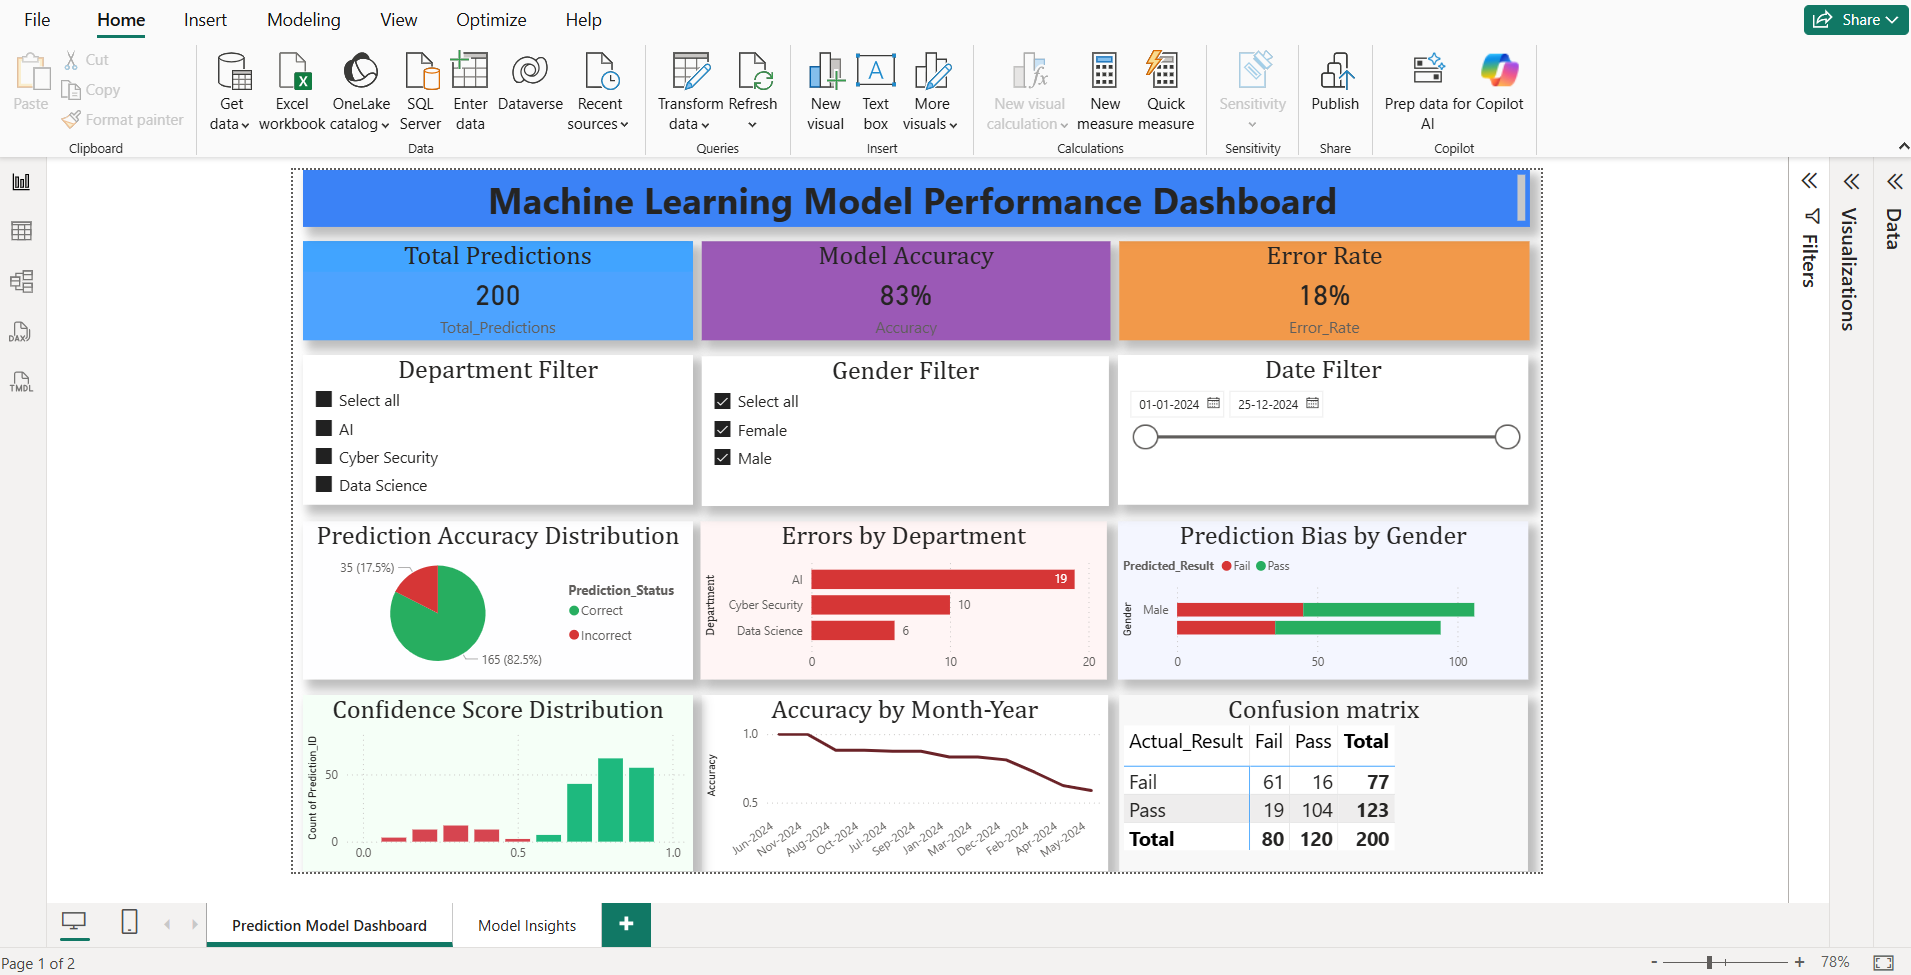

Layout of this report page (visuals, bound fields, positions):
{"tool":"powerbi","page":{"name":"Prediction Model Dashboard","canvas":[1280,720],"ordinal":0},"visuals":[{"type":"card","title":"Total Predictions","fields":{"Values":["Prediction_Data.Total_Predictions"]},"box":[10.4,73.1,400,101.5],"z":0},{"type":"card","title":"Model Accuracy","fields":{"Values":["Prediction_Data.Accuracy %"]},"box":[419.4,73.1,419.4,101.5],"z":1000},{"type":"card","title":"Error Rate","fields":{"Values":["Prediction_Data.Error Rate %"]},"box":[847.8,73.1,420.9,101.5],"z":2000},{"type":"pieChart","title":"Prediction Accuracy Distribution","fields":{"Category":["Prediction_Data.Prediction_Status"],"Y":["CountNonNull(Prediction_Data.Prediction_ID)"]},"box":[10.4,359.7,400,162.7],"z":3000},{"type":"clusteredBarChart","title":"Errors by Department","fields":{"Y":["Sum(Prediction_Data.Error_Value)"],"Category":["Prediction_Data.Department"]},"box":[417.9,359.7,416.4,162.7],"z":4000},{"type":"barChart","title":"Prediction Bias by Gender","fields":{"Category":["Prediction_Data.Gender"],"Y":["CountNonNull(Prediction_Data.Prediction_ID)"],"Series":["Prediction_Data.Predicted_Result"]},"box":[846.3,359.7,420.9,162.7],"z":5000},{"type":"lineChart","fields":{"Y":["Prediction_Data.Accuracy %"],"Category":["Prediction_Data.Month-Year"]},"box":[419.4,538.8,416.4,180.6],"z":6000},{"type":"clusteredColumnChart","title":"Confidence Score Distribution","fields":{"Y":["CountNonNull(Prediction_Data.Prediction_ID)"],"Category":["Prediction_Data.Confidence_Score (bins) 2"]},"box":[10.4,538.8,400,180.6],"z":7000},{"type":"pivotTable","title":"Confusion matrix","fields":{"Rows":["Prediction_Data.Actual_Result"],"Columns":["Prediction_Data.Predicted_Result"],"Values":["CountNonNull(Prediction_Data.Prediction_ID)"]},"box":[847.8,538.8,419.4,180.6],"z":8000},{"type":"slicer","title":"Department Filter","fields":{"Values":["Prediction_Data.Department"]},"box":[10.3,191,400,153.8],"z":9000},{"type":"slicer","title":"Gender Filter ","fields":{"Values":["Prediction_Data.Gender"]},"box":[420.5,191,417.9,153.8],"z":10000},{"type":"slicer","title":"Date Filter","fields":{"Values":["Prediction_Data.Date"]},"box":[846.3,189.6,420.9,153.7],"z":11000},{"type":"textbox","box":[10.4,0,1258.2,58.2],"z":11001}]}

Visuals, with their boxes on the page's 1280x720 design canvas (x1, y1, x2, y2). These are canvas units, not pixel positions in the 1911x975 screenshot, which may show the page scaled, cropped or inside an application window:
"Total Predictions" card: left=10, top=73, right=410, bottom=175
"Model Accuracy" card: left=419, top=73, right=839, bottom=175
"Error Rate" card: left=848, top=73, right=1269, bottom=175
"Prediction Accuracy Distribution" pieChart: left=10, top=360, right=410, bottom=522
"Errors by Department" clusteredBarChart: left=418, top=360, right=834, bottom=522
"Prediction Bias by Gender" barChart: left=846, top=360, right=1267, bottom=522
lineChart - Prediction_Data.Accuracy % x Prediction_Data.Month-Year: left=419, top=539, right=836, bottom=719
"Confidence Score Distribution" clusteredColumnChart: left=10, top=539, right=410, bottom=719
"Confusion matrix" pivotTable: left=848, top=539, right=1267, bottom=719
"Department Filter" slicer: left=10, top=191, right=410, bottom=345
"Gender Filter " slicer: left=420, top=191, right=838, bottom=345
"Date Filter" slicer: left=846, top=190, right=1267, bottom=343
textbox: left=10, top=0, right=1269, bottom=58
